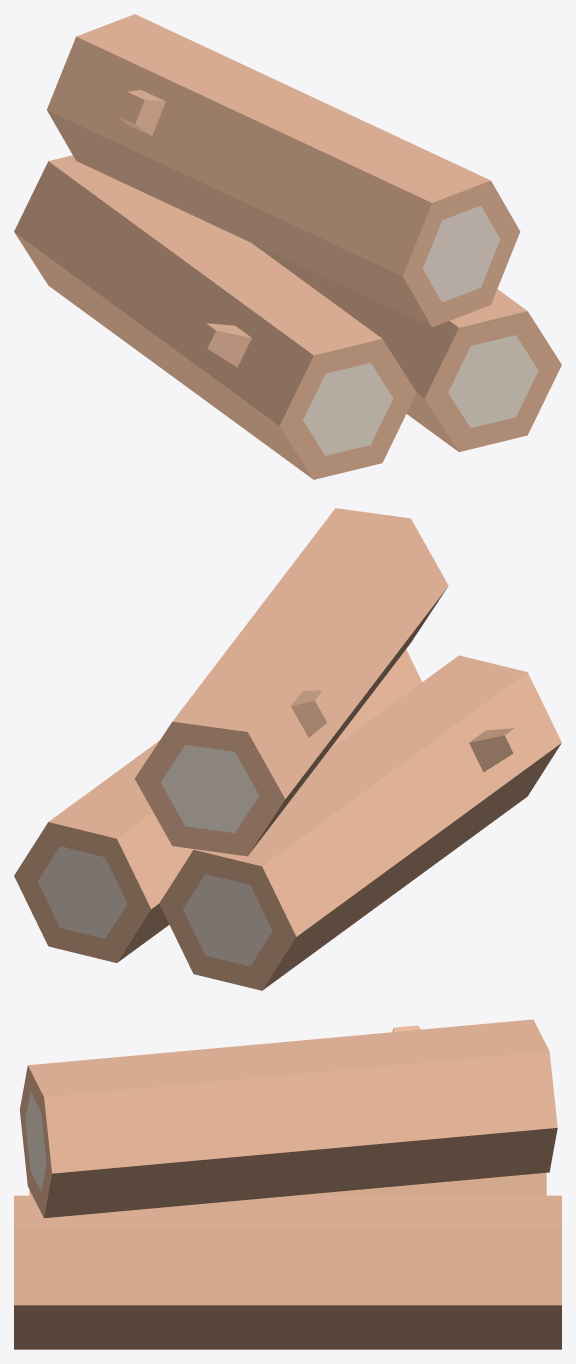
Rendered from log_stack.glb.
3 renders of one model, top to bottom at view 1: azimuth 30°, elevation 25°; view 2: azimuth 150°, elevation 25°; view 3: azimuth 270°, elevation 25°, orthographic. The views are drawn at different scales.
Visible parts, largest first — view 1: log_stack; view 2: log_stack; view 3: log_stack.
Part boxes in pixels (x1,y1,x2,y2): log_stack: (14,14,561,479); log_stack: (14,508,561,990); log_stack: (14,1019,561,1349).
Size of the model in its own units: 0.4247 by 0.3464 by 0.71.
